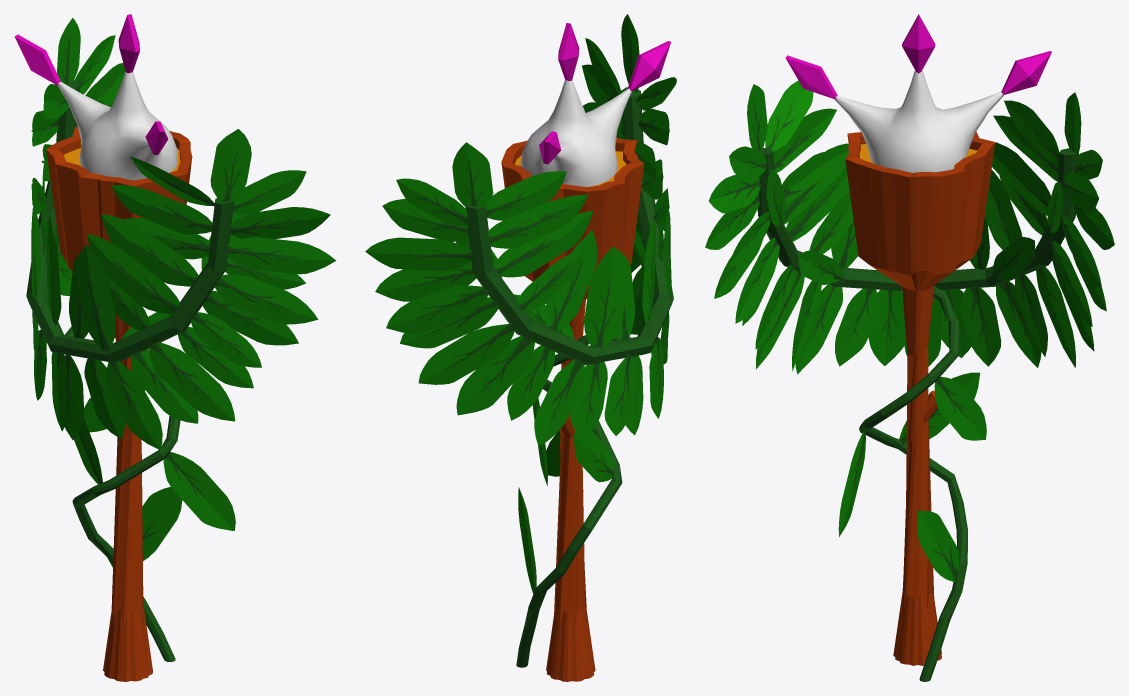
The model's file is Posoh.fbx.
The picture shows the model from 3 angles, left to right: view 1: azimuth 30°, elevation 25°; view 2: azimuth 150°, elevation 25°; view 3: azimuth 270°, elevation 25°; orthographic projection. The views are drawn at different scales.
Parts seen in each view (by area): view 1: Plane.001, Plane, Cylinder.002, Cylinder, Icosphere.001, Cube.002; view 2: Plane.001, Plane, Cylinder.002, Cylinder, Icosphere.001, Cube.002; view 3: Plane, Cylinder.002, Plane.001, Cylinder, Icosphere.001, Cube.002.
Boxes of the visible parts, x1=… form: Plane.001: x1=31, y1=18, x2=335, y2=560; Plane: x1=31, y1=18, x2=336, y2=557; Cylinder.002: x1=46, y1=126, x2=192, y2=681; Cylinder: x1=26, y1=80, x2=234, y2=661; Icosphere.001: x1=58, y1=72, x2=177, y2=180; Cube.002: x1=14, y1=14, x2=168, y2=154; Plane.001: x1=365, y1=15, x2=676, y2=590; Plane: x1=365, y1=14, x2=676, y2=593; Cylinder.002: x1=501, y1=137, x2=644, y2=681; Cylinder: x1=465, y1=87, x2=673, y2=667; Icosphere.001: x1=520, y1=80, x2=631, y2=186; Cube.002: x1=539, y1=23, x2=670, y2=164; Plane: x1=705, y1=80, x2=1114, y2=581; Cylinder.002: x1=845, y1=132, x2=995, y2=665; Plane.001: x1=709, y1=81, x2=1114, y2=575; Cylinder: x1=757, y1=148, x2=1078, y2=681; Icosphere.001: x1=834, y1=70, x2=1003, y2=173; Cube.002: x1=785, y1=14, x2=1051, y2=99.
Bounding box in the file's own units: 188 × 630 × 363.
